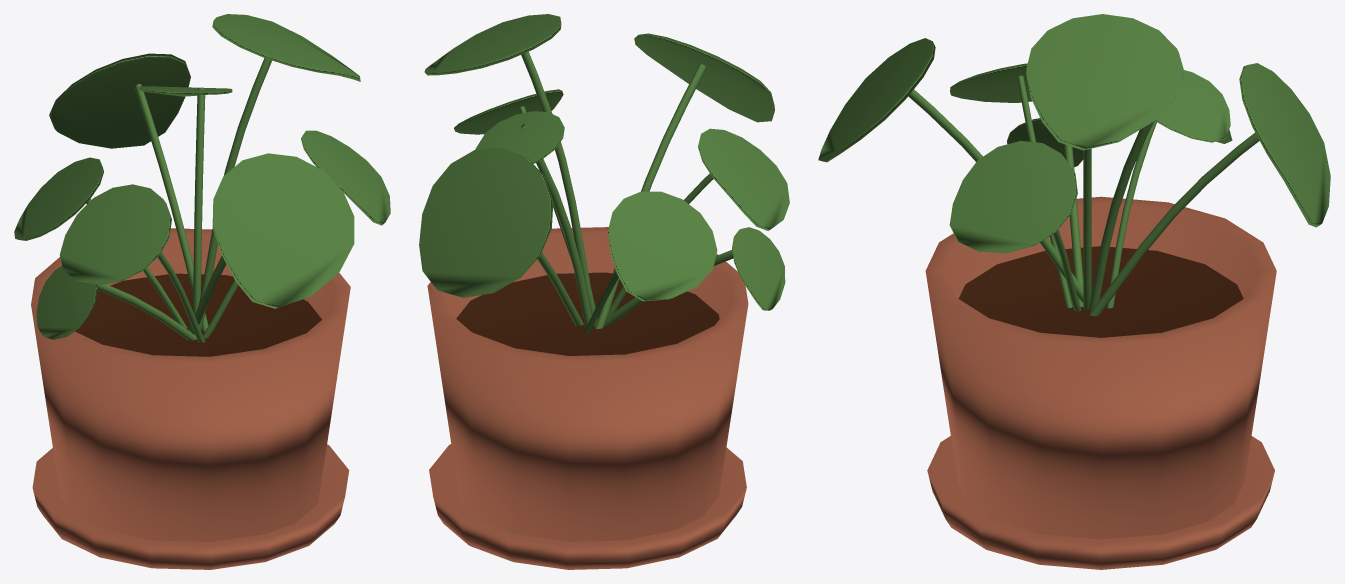
File: plant.fbx
The picture shows the model from 3 angles, left to right: view 1: azimuth 30°, elevation 25°; view 2: azimuth 150°, elevation 25°; view 3: azimuth 270°, elevation 25°; orthographic projection. The views are drawn at different scales.
Visible parts, largest first — view 1: Pot, leaf.002, Plate, leaf.004, leaf.007, leaf, leaf.005, leaf.006, leaf.003, stalk.001, stalk.004, stalk (+5 smaller); view 2: Pot, leaf.004, Plate, leaf.006, leaf.007, leaf.002, leaf, leaf.003, leaf.001, stalk, leaf.005, stalk.002 (+4 smaller); view 3: Pot, leaf, Plate, leaf.005, leaf.004, leaf.002, leaf.001, stalk.004, leaf.007, stalk.001, stalk.002, stalk (+5 smaller).
Part boxes in pixels (box(x1,y1,x2,y2)): Pot: box(31, 228, 350, 541); leaf.002: box(212, 153, 354, 308); Plate: box(32, 444, 349, 569); leaf.004: box(49, 53, 190, 148); leaf.007: box(59, 184, 171, 285); leaf: box(212, 14, 360, 81); leaf.005: box(301, 130, 390, 225); leaf.006: box(14, 157, 103, 240); leaf.003: box(36, 266, 97, 339); stalk.001: box(193, 88, 205, 314); stalk.004: box(134, 84, 208, 331); stalk: box(194, 58, 271, 335); Pot: box(427, 227, 748, 541); leaf.004: box(419, 147, 553, 297); Plate: box(429, 444, 746, 569); leaf.006: box(607, 191, 717, 301); leaf.007: box(698, 128, 789, 230); leaf.002: box(634, 33, 774, 122); leaf: box(424, 14, 561, 75); leaf.003: box(732, 227, 785, 310); leaf.001: box(475, 111, 564, 163); stalk: box(521, 51, 597, 326); leaf.005: box(454, 89, 563, 134); stalk.002: box(595, 64, 706, 328); Pot: box(925, 196, 1276, 539); leaf: box(1026, 14, 1183, 150); Plate: box(927, 436, 1274, 569); leaf.005: box(949, 141, 1077, 253); leaf.004: box(1239, 63, 1330, 227); leaf.002: box(818, 38, 935, 162); leaf.001: box(1155, 70, 1230, 142); stalk.004: box(1089, 132, 1259, 316); leaf.007: box(950, 63, 1032, 102); stalk.001: box(1089, 121, 1154, 310); stalk.002: box(908, 89, 1083, 302); stalk: box(1083, 148, 1091, 309).
Size of the model in its own units: 56.46 by 76.93 by 70.62.
